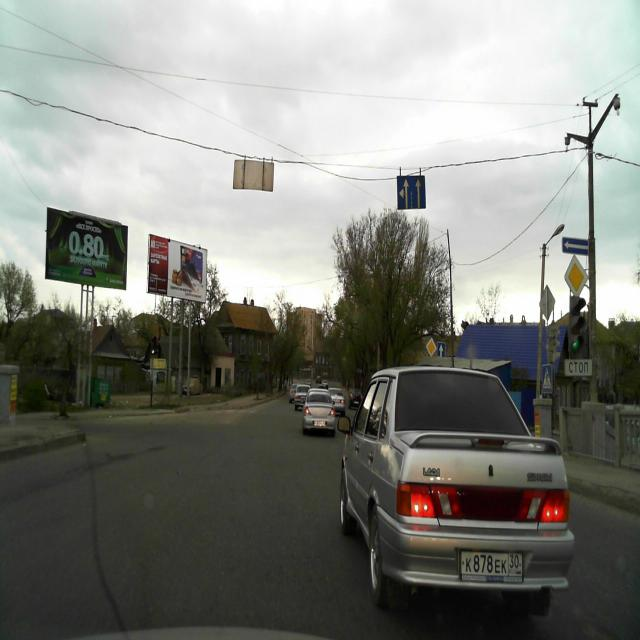road sign: (562, 257, 588, 299), (396, 175, 426, 210), (561, 236, 589, 256), (563, 359, 592, 377), (539, 363, 555, 392), (426, 338, 435, 355), (437, 342, 446, 358)
